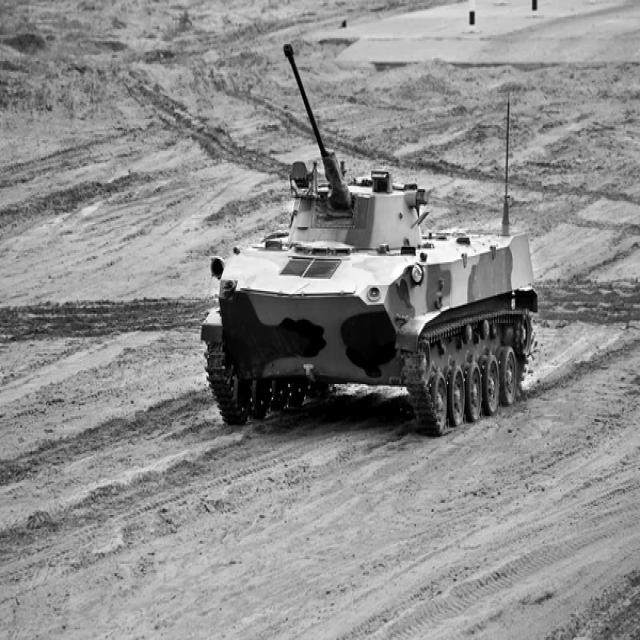Tank: (208, 100, 544, 440)
